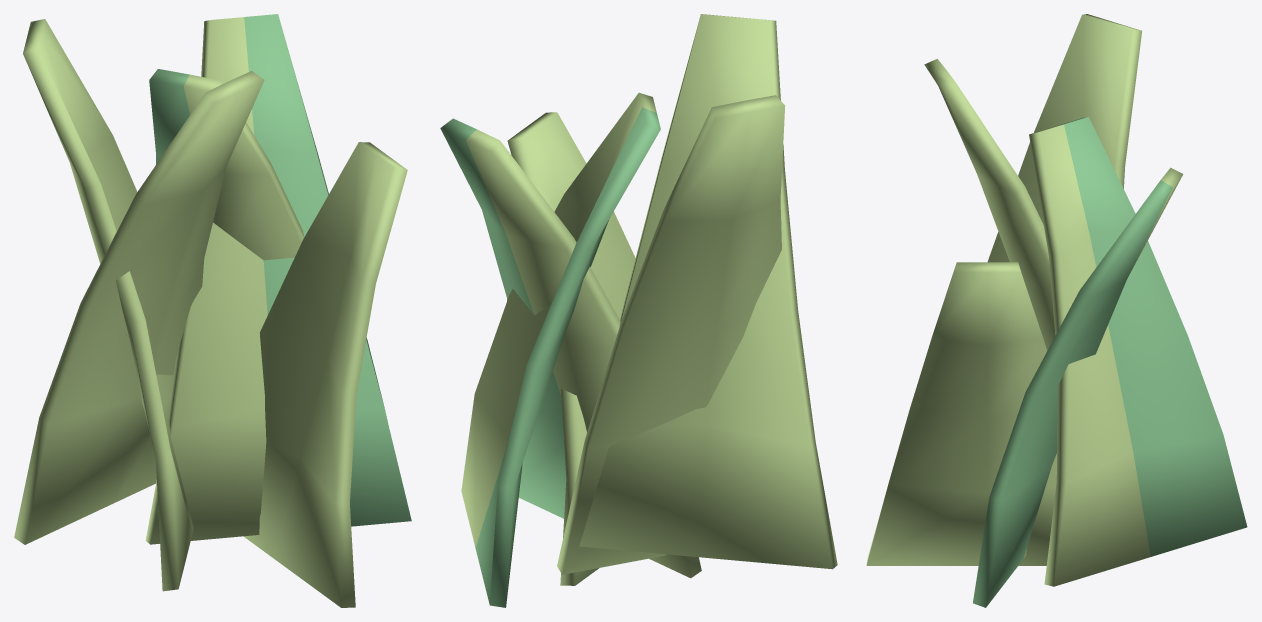
File: pickup_leaf.glb
The picture shows the model from 3 angles, left to right: view 1: azimuth 30°, elevation 25°; view 2: azimuth 150°, elevation 25°; view 3: azimuth 270°, elevation 25°; orthographic projection. The views are drawn at different scales.
Visible parts, largest first — view 1: Loose gathered leaf 00.001; view 2: Loose gathered leaf 00.001; view 3: Loose gathered leaf 00.001.
Boxes of the visible parts, x1,y1,x2,y2 form: Loose gathered leaf 00.001: (14, 14, 411, 607); Loose gathered leaf 00.001: (440, 14, 837, 607); Loose gathered leaf 00.001: (866, 14, 1247, 607).
Size of the model in its own units: 0.3119 by 0.4245 by 0.315.
